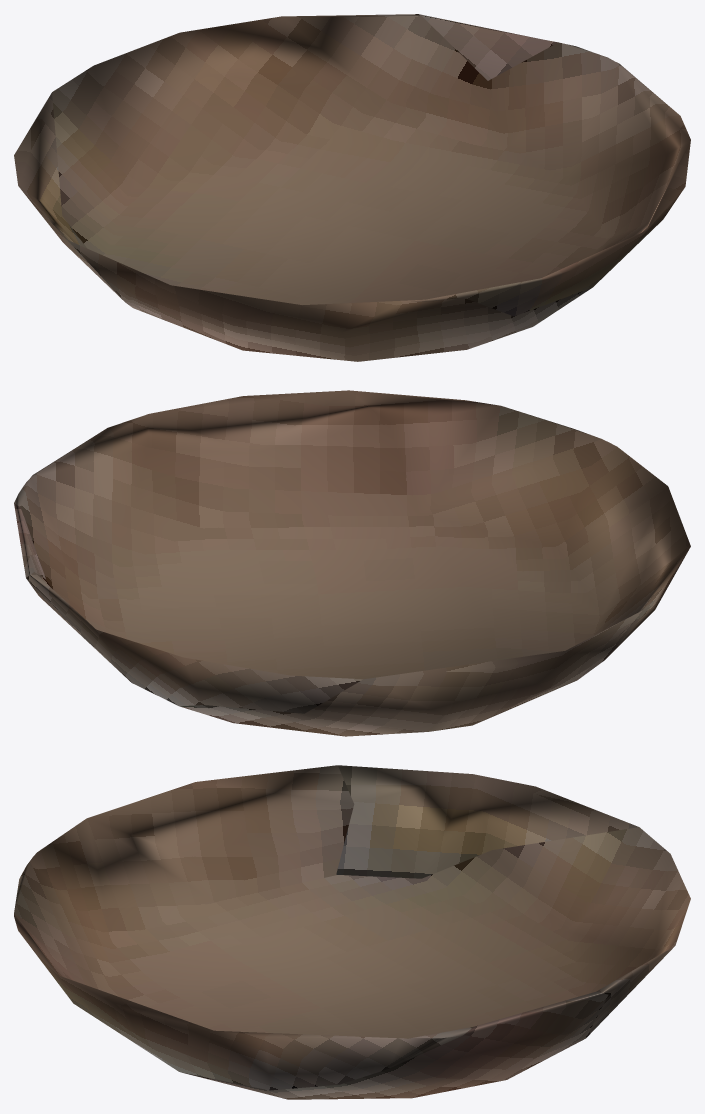
Rendered from Ecoforms_Plant_Saucer_S14MOCHA-low.glb.
3 views of the same model, one above another, from view 1: azimuth 30°, elevation 25°; view 2: azimuth 150°, elevation 25°; view 3: azimuth 270°, elevation 25° (orthographic).
Visible parts, largest first — view 1: Ecoforms_Plant_Saucer_S14MOCHA; view 2: Ecoforms_Plant_Saucer_S14MOCHA; view 3: Ecoforms_Plant_Saucer_S14MOCHA.
Boxes of the visible parts, x1,y1,x2,y2 form: Ecoforms_Plant_Saucer_S14MOCHA: [14, 14, 690, 361]; Ecoforms_Plant_Saucer_S14MOCHA: [14, 390, 690, 736]; Ecoforms_Plant_Saucer_S14MOCHA: [14, 765, 690, 1099].
Bounding box in the file's own units: 0.1468 × 0.0269 × 0.1475.
Materials: 1 (1 with a texture image).
